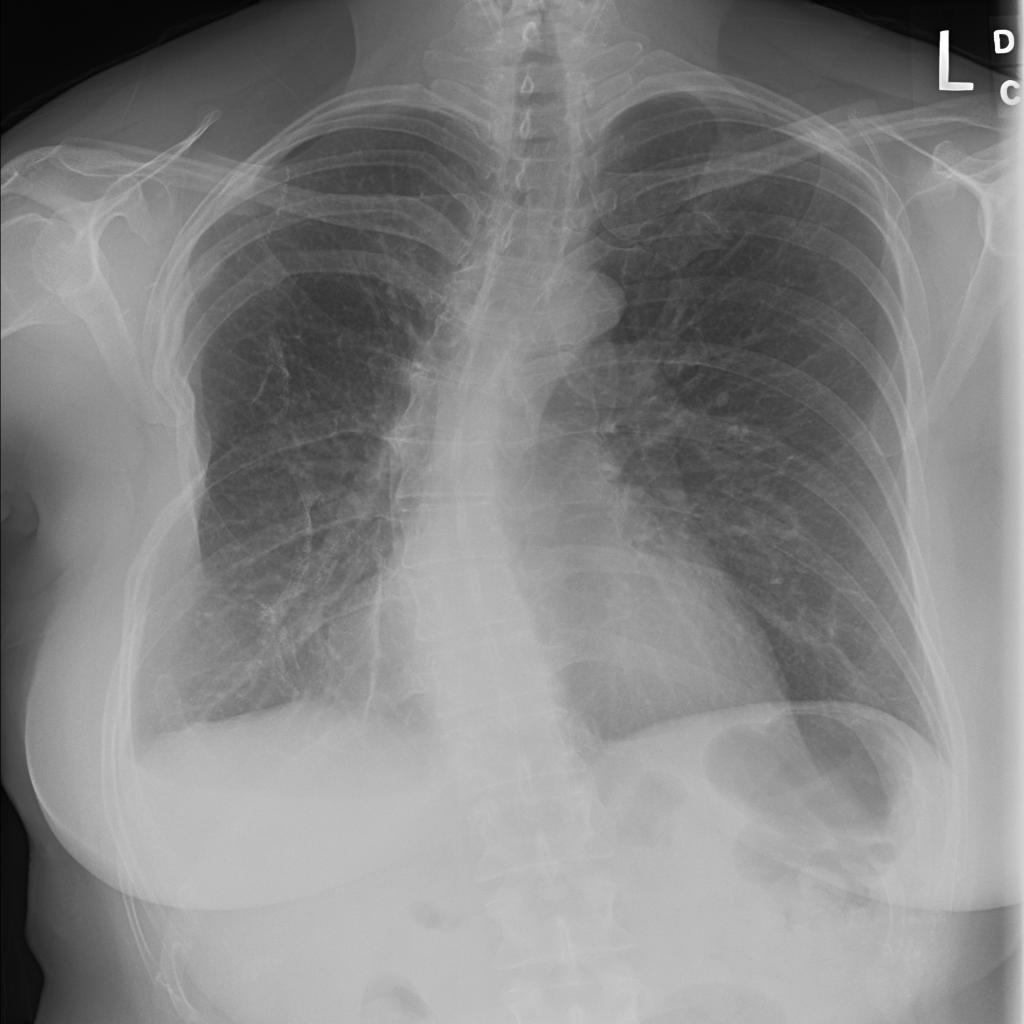Nodule: (511, 316, 564, 359)
